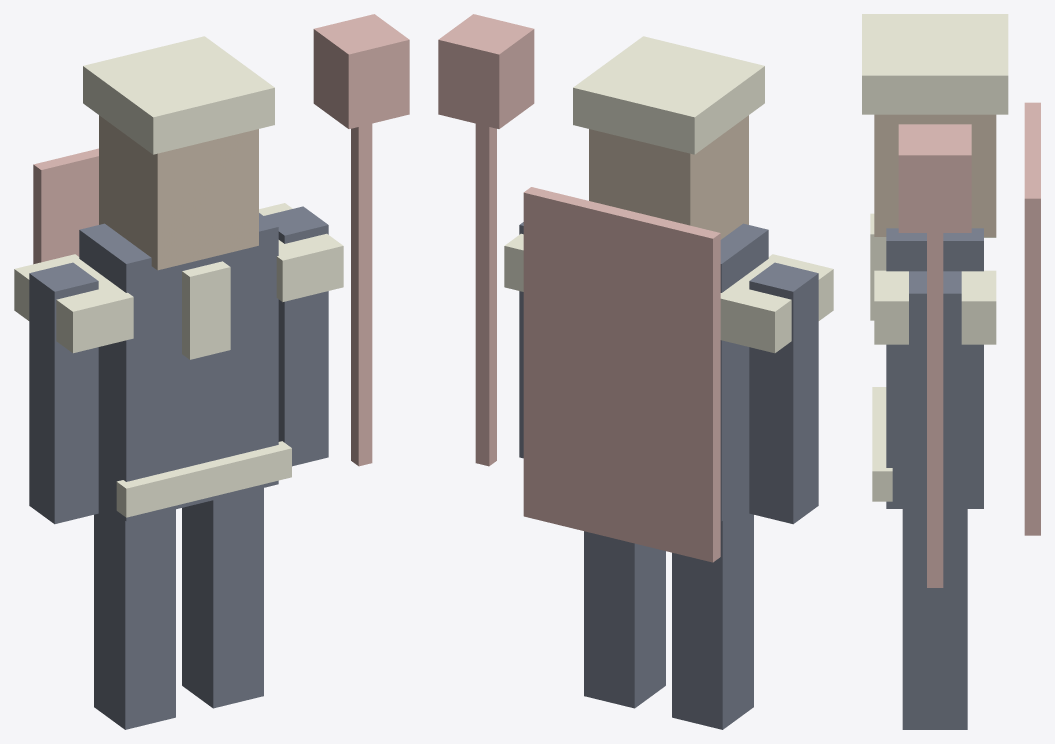
Rendered from 08_luma_latchward_scout_near_climber.glb.
The picture shows the model from 3 angles, left to right: view 1: azimuth 30°, elevation 25°; view 2: azimuth 150°, elevation 25°; view 3: azimuth 270°, elevation 25°; orthographic projection. The views are drawn at different scales.
Visible parts, largest first — view 1: Luma Latchward, Scout near Climber; view 2: Luma Latchward, Scout near Climber; view 3: Luma Latchward, Scout near Climber.
Part boxes in pixels (box(x1,y1,x2,y2)): Luma Latchward, Scout near Climber: box(14, 14, 409, 729); Luma Latchward, Scout near Climber: box(438, 14, 833, 729); Luma Latchward, Scout near Climber: box(862, 14, 1040, 729).
Size of the model in its own units: 0.9626 by 1.64 by 0.4092.
